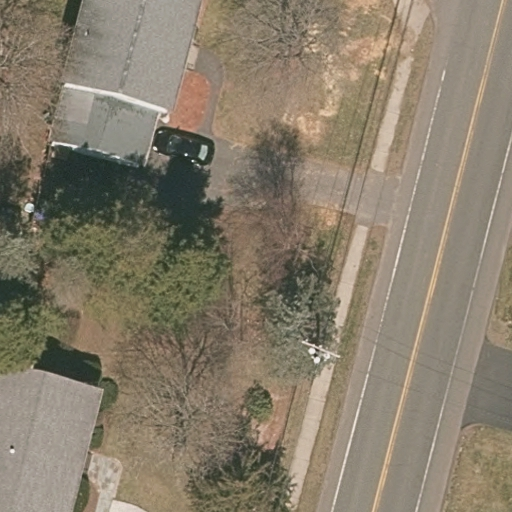DT: (298, 337, 345, 365)
